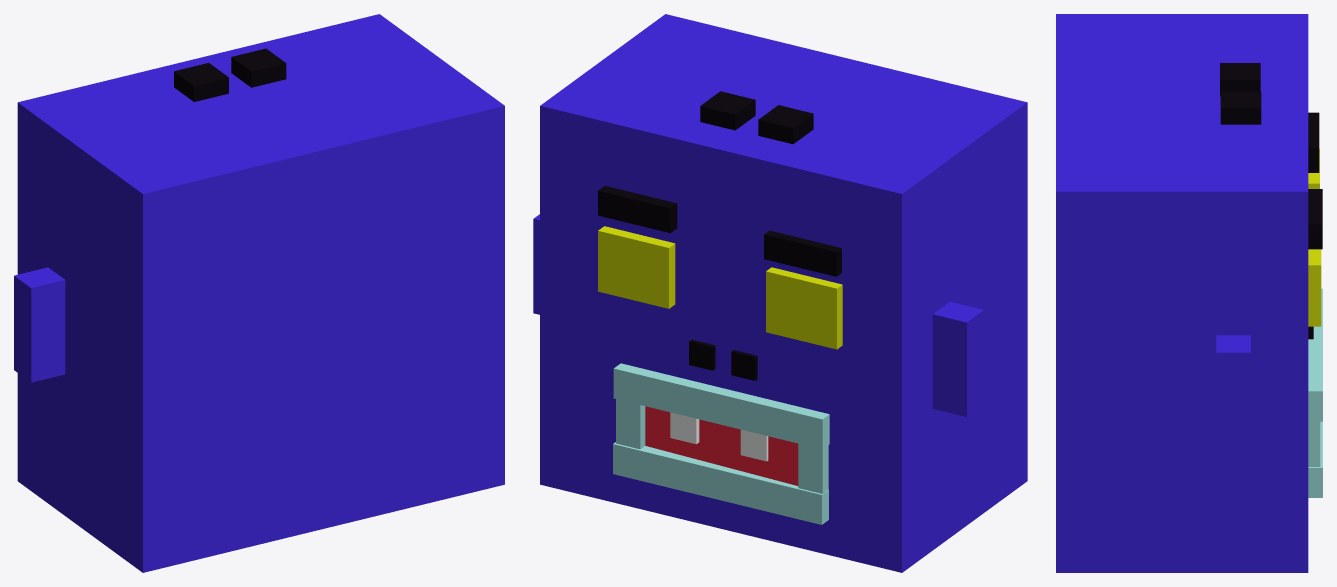
File: zombie_azul_cortado.fbx
3 views of the same model, side by side, from view 1: azimuth 30°, elevation 25°; view 2: azimuth 150°, elevation 25°; view 3: azimuth 270°, elevation 25° (orthographic).
Parts seen in each view (by area): view 1: Plano, Plano.001; view 2: Plano, Plano.001; view 3: Plano.001, Plano.
Part boxes in pixels (bbox=[...]): Plano: bbox=[14, 58, 323, 572]; Plano.001: bbox=[197, 14, 504, 528]; Plano: bbox=[714, 58, 1027, 572]; Plano.001: bbox=[533, 14, 847, 528]; Plano.001: bbox=[1056, 91, 1322, 572]; Plano: bbox=[1056, 14, 1322, 341].
Bounding box in the file's own units: 238 × 208 × 127.
